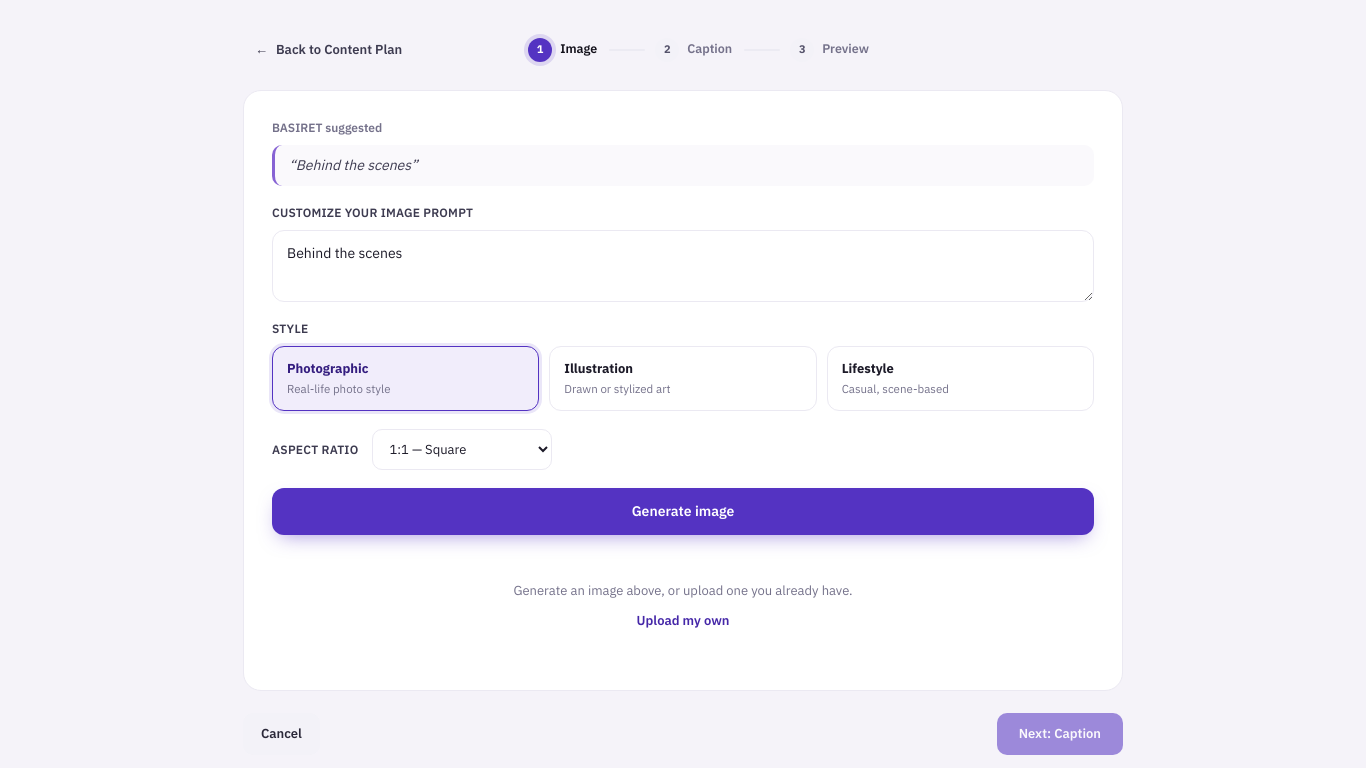
Test: WizardCaptionStep — manual edits + regenerate confirm › editing the textarea after generation flips state.dirty and marks the caption as edited
The width and height of the screenshot is (1366, 768).
Click the button with test id "image-generate" at [683, 512], box top-left (272, 488), bottom-right (1094, 535)
(page scrolled)
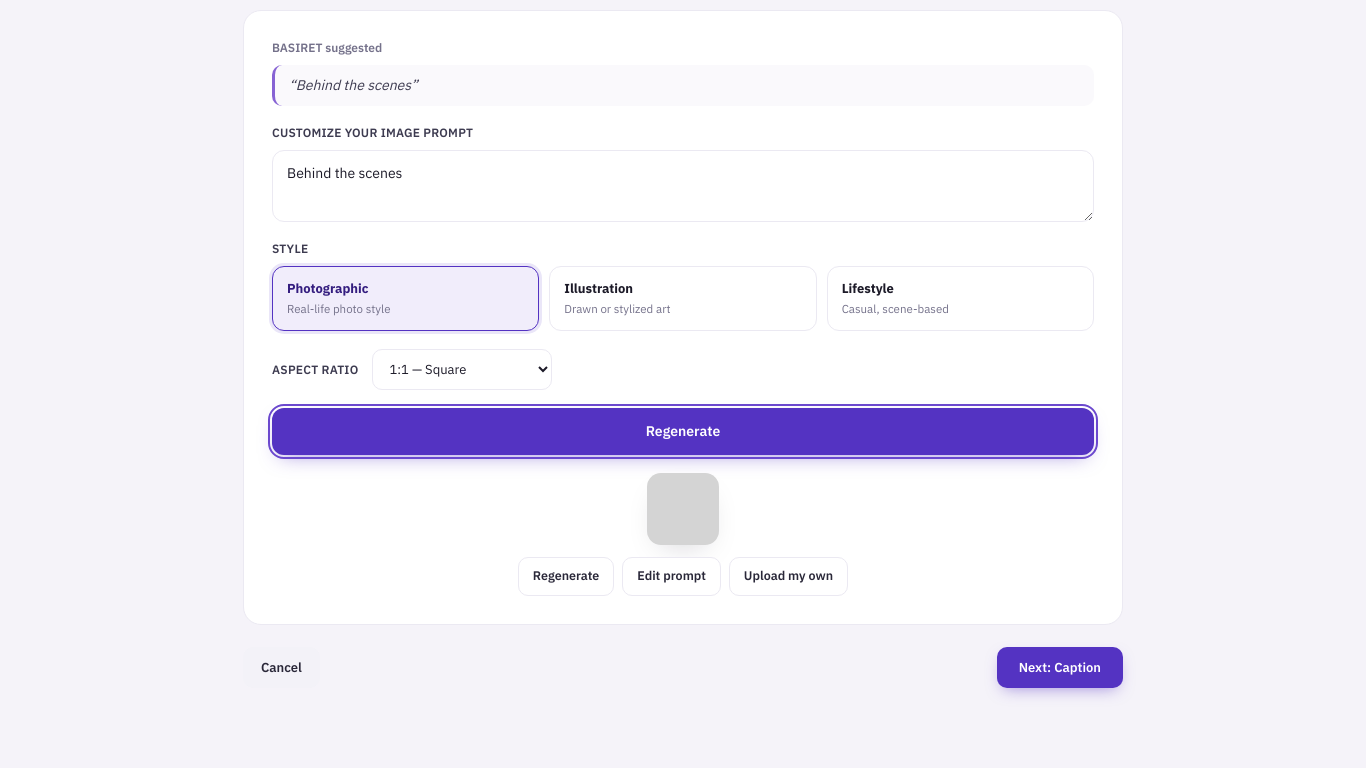
Click the button with test id "wizard-next" at [1060, 668], box top-left (997, 647), bottom-right (1123, 688)
(page scrolled)
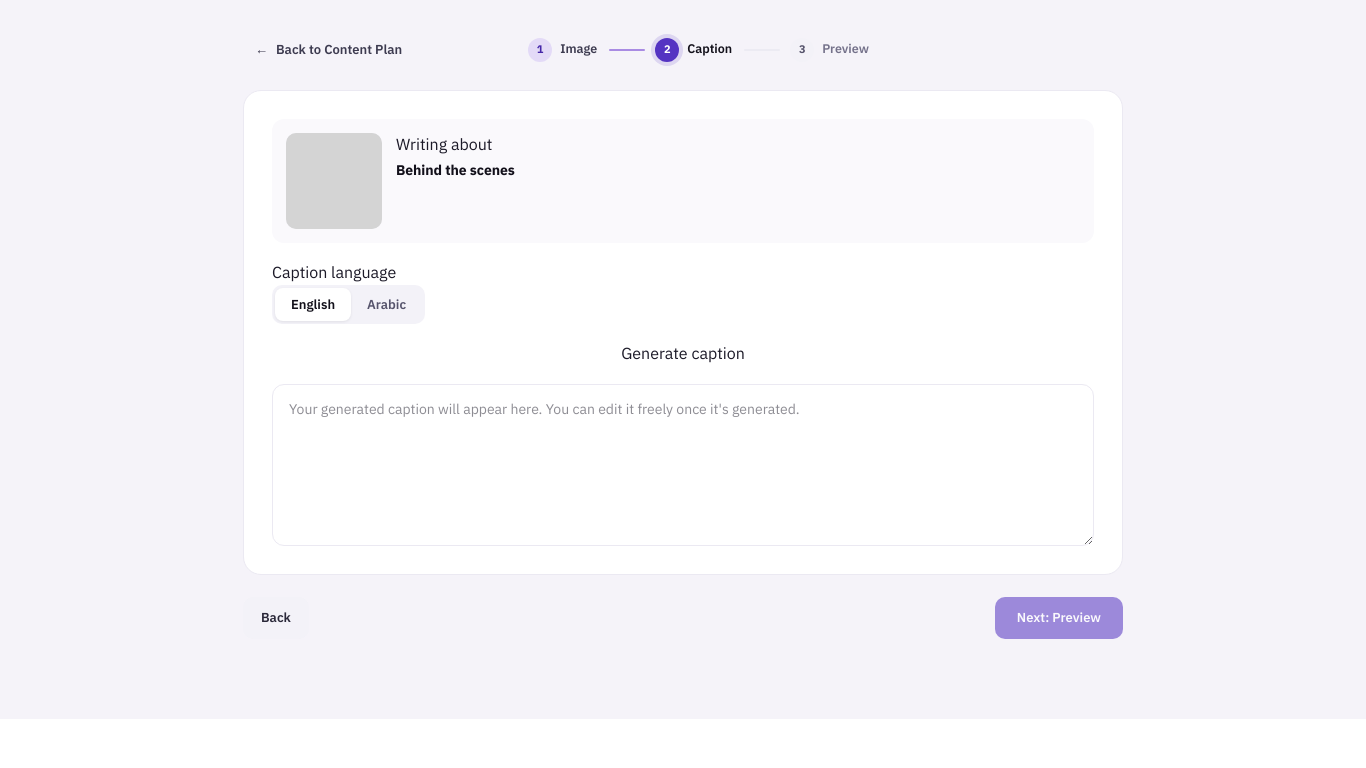
Click the button with test id "caption-generate" at [683, 354], box top-left (272, 342), bottom-right (1094, 366)
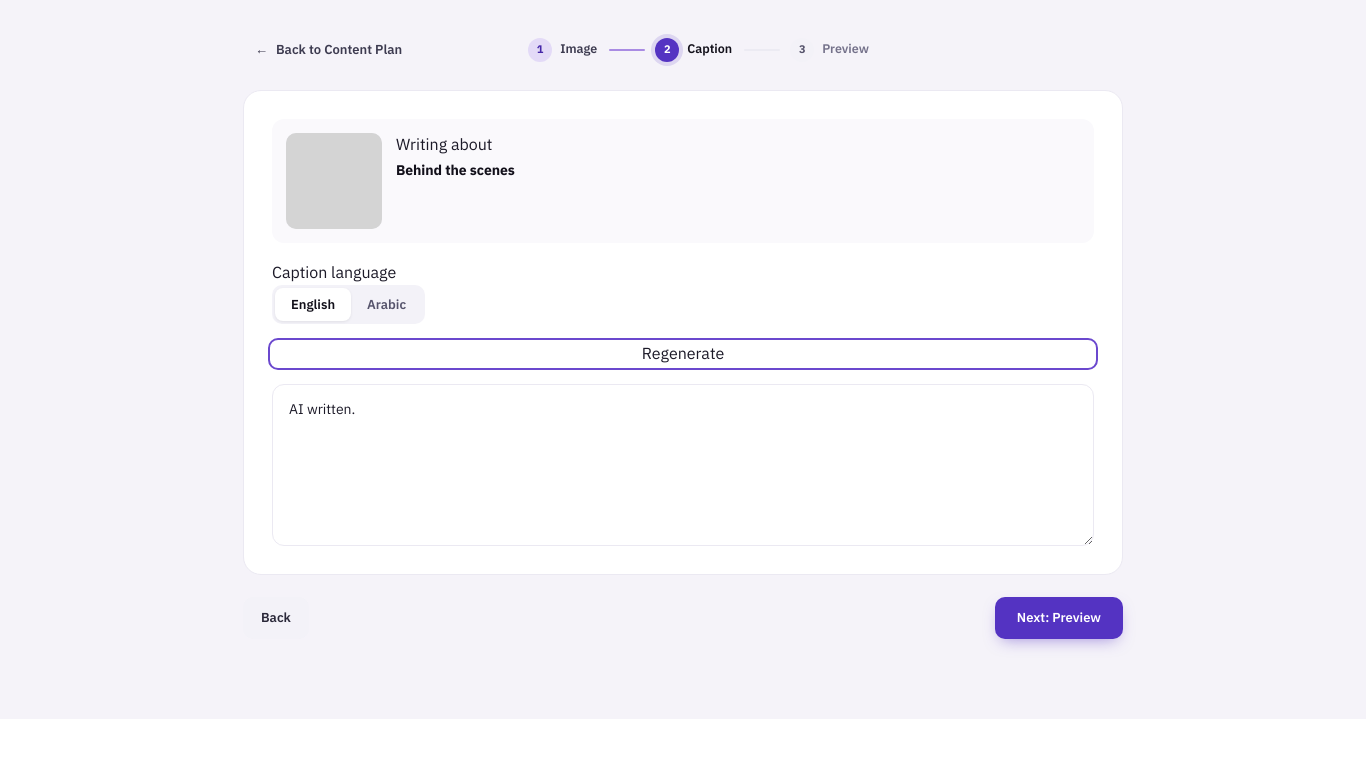
Type " Plus my note." into the text box with test id "caption-textarea" at [683, 465], box top-left (272, 384), bottom-right (1094, 546)
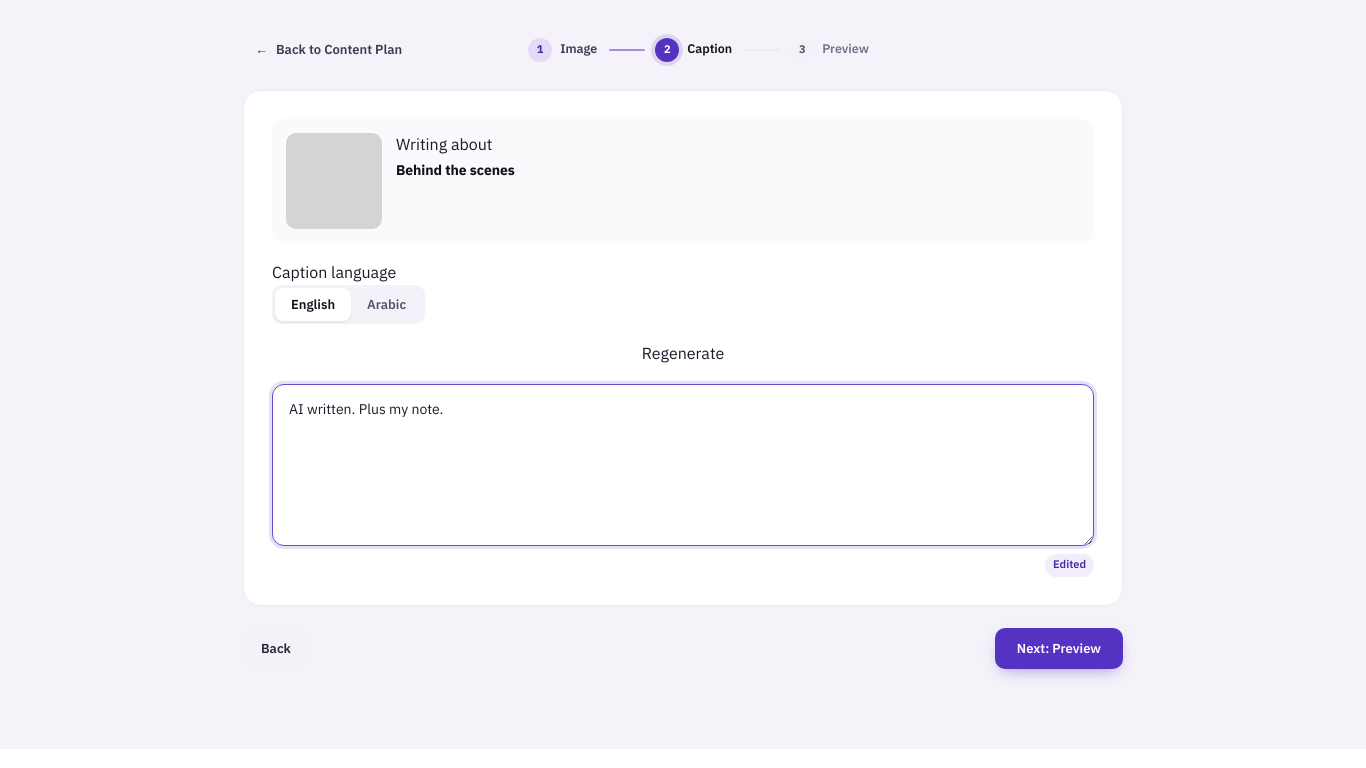
Expected: the text box with test id "caption-textarea" holds "AI written. Plus my note.", top-left (272, 384), bottom-right (1094, 546)
